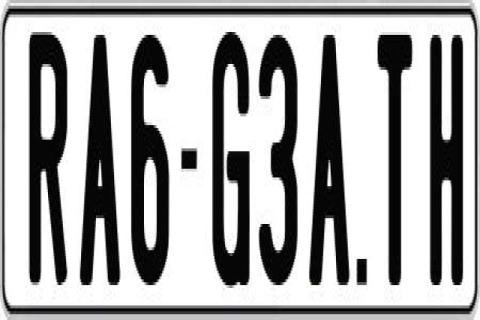0: (130, 32, 174, 300), (260, 32, 299, 294)
A: (308, 27, 351, 286), (76, 35, 118, 291)
G: (209, 24, 248, 288)
H: (429, 35, 460, 303)
R: (26, 32, 66, 288)
T: (376, 26, 414, 288)
